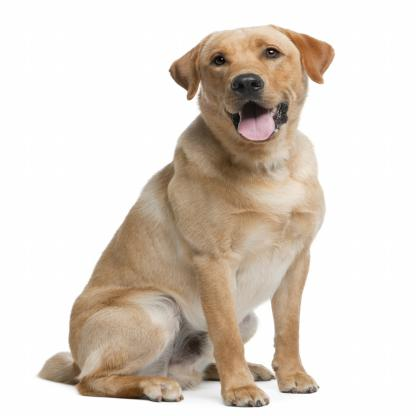dog: (41, 25, 338, 406)
